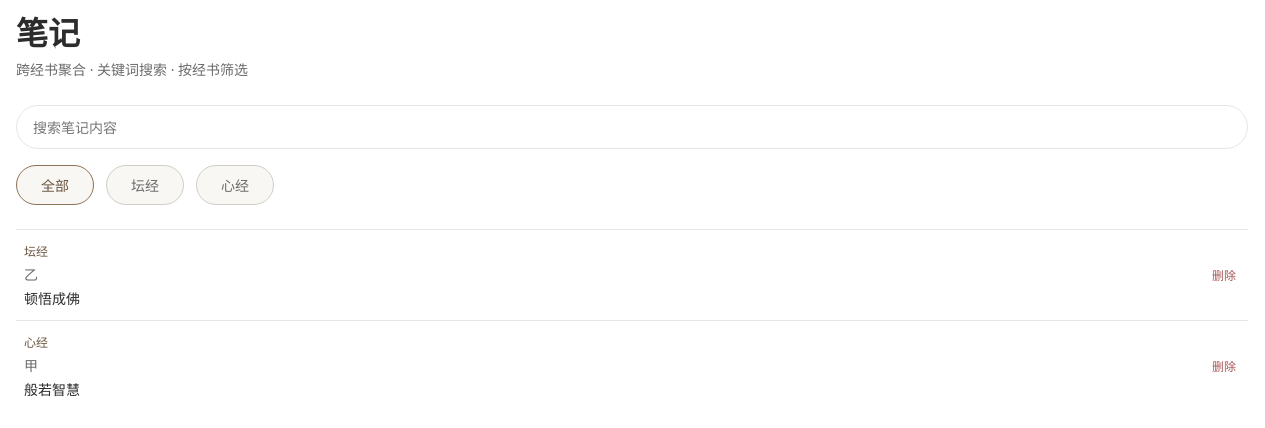
Test case: NotesView（§9 T09 笔记跳转） › 关键词搜索与按经书筛选
Check: the number of buttons with class "notes__entry" is 2, box [16,230,1188,320]; [16,321,1188,411]
Type "顿悟" into the search field with placeholder "搜索笔记内容" at (632, 127), box [16,105,1248,149]
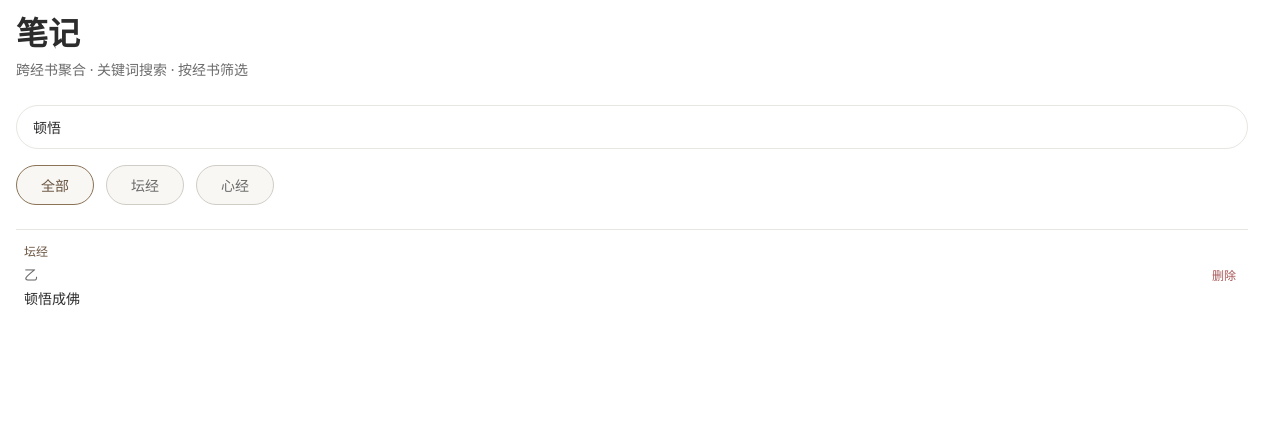
Check: the text "顿悟成佛" is shown, box [24,288,80,308]
Check: the number of buttons with class "notes__entry" is 1, box [16,230,1188,320]
Clear the search field named "搜索笔记" at (632, 127), box [16,105,1248,149]
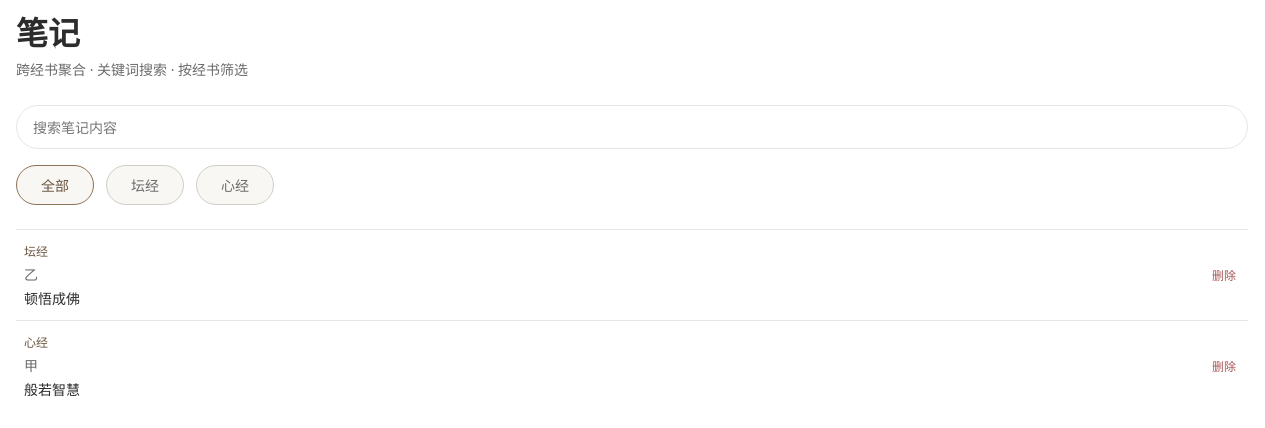
Click the button with class "notes__filter" showing "坛经" at (145, 185), box [106,165,184,205]
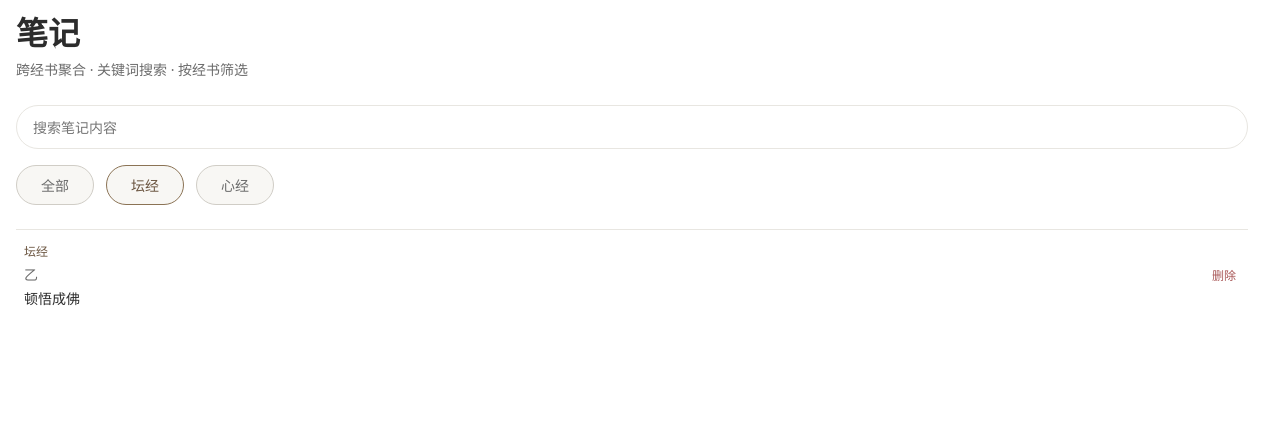
Check: the text "顿悟成佛" is shown, box [24,288,80,308]
Check: the number of buttons with class "notes__entry" is 1, box [16,230,1188,320]
